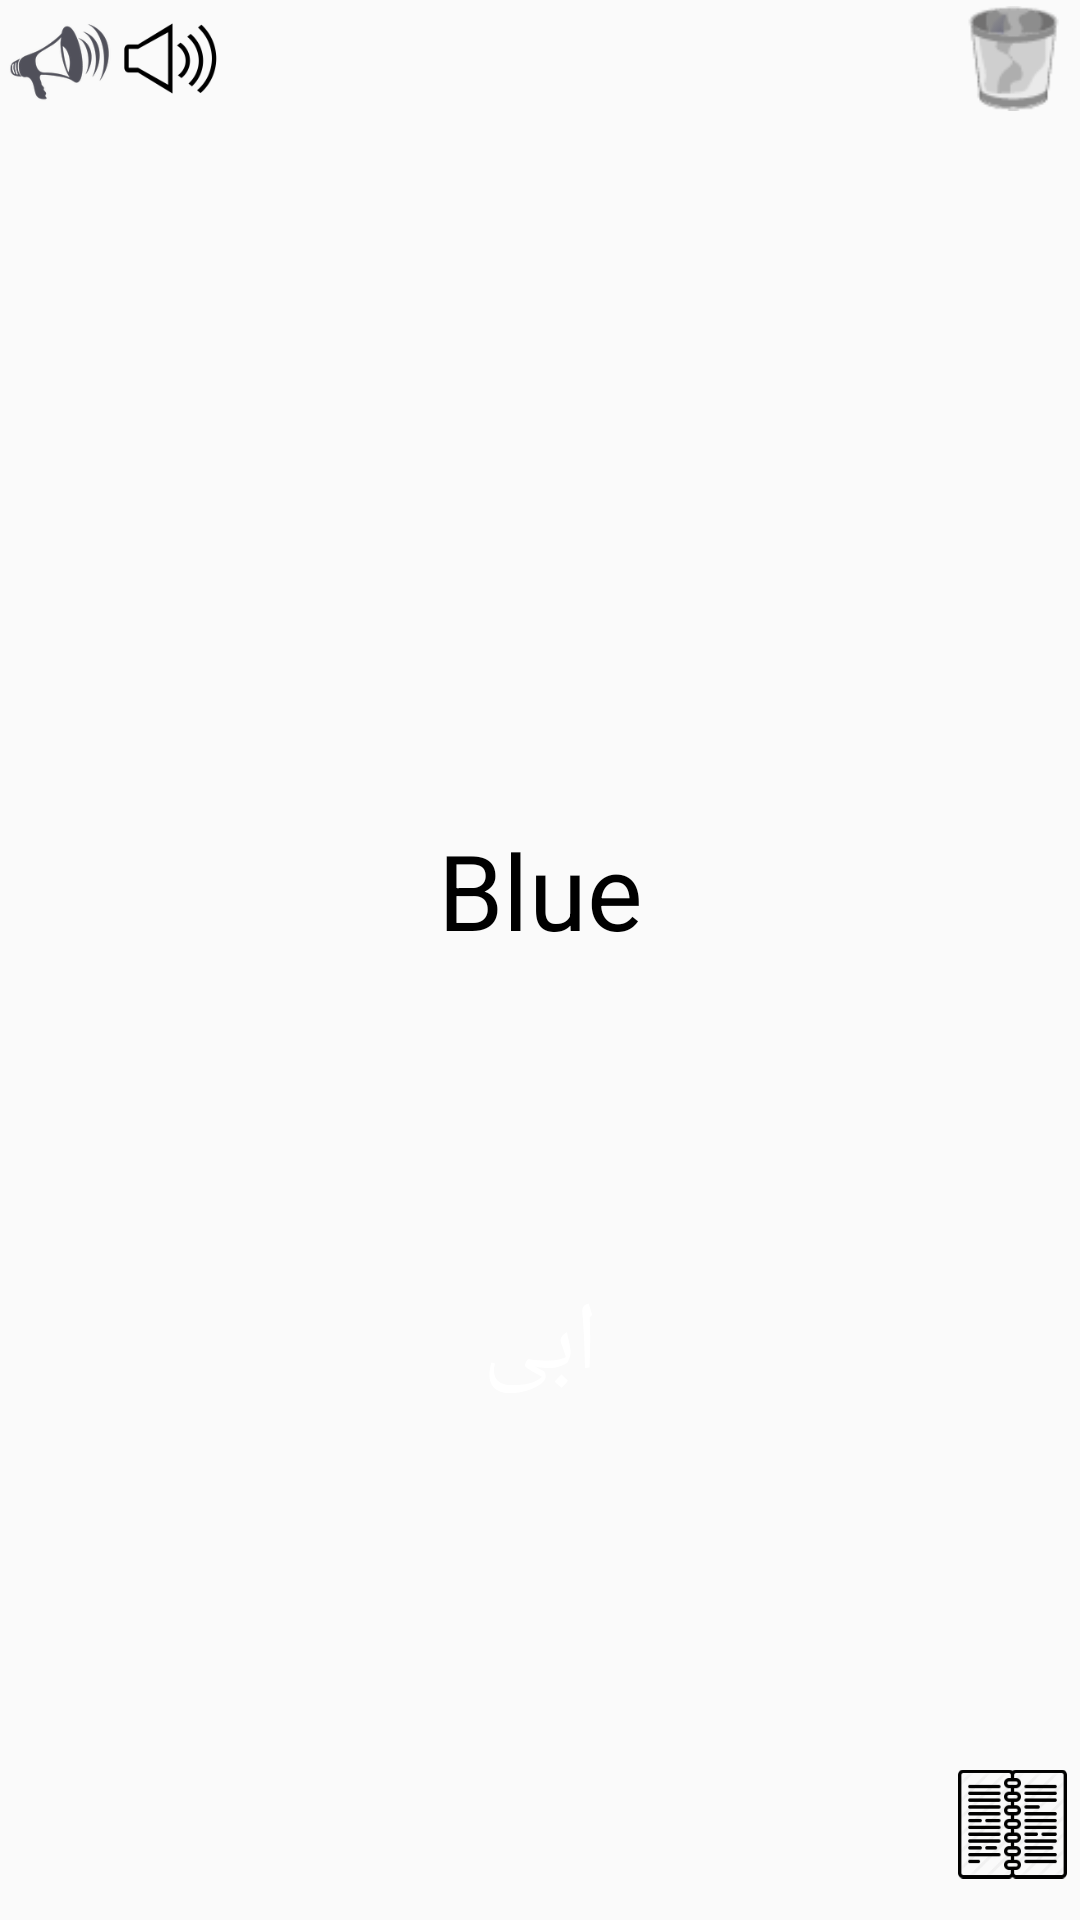

Locate icon controls on the screen. Image size 1080 x 1920, boxes as (x1, y1, x2, y2).
inf: (958, 1770, 1067, 1879)
soundonline: (10, 24, 109, 100)
trash: (970, 7, 1057, 111)
